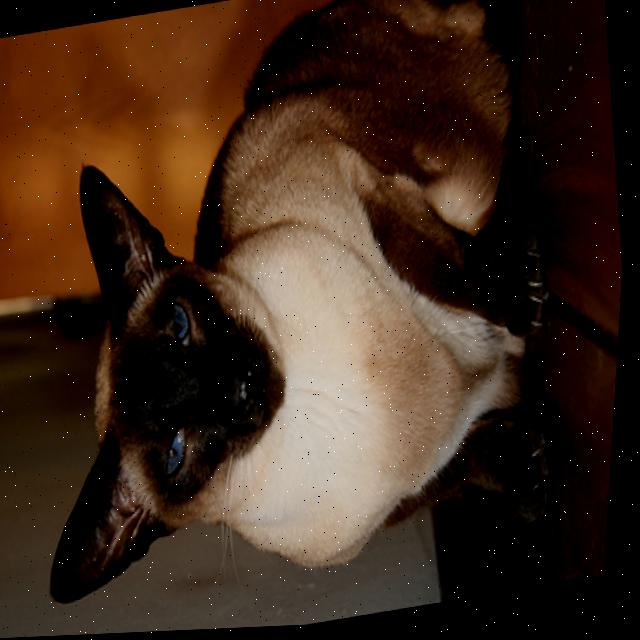Siamese: (0, 0, 600, 626)
